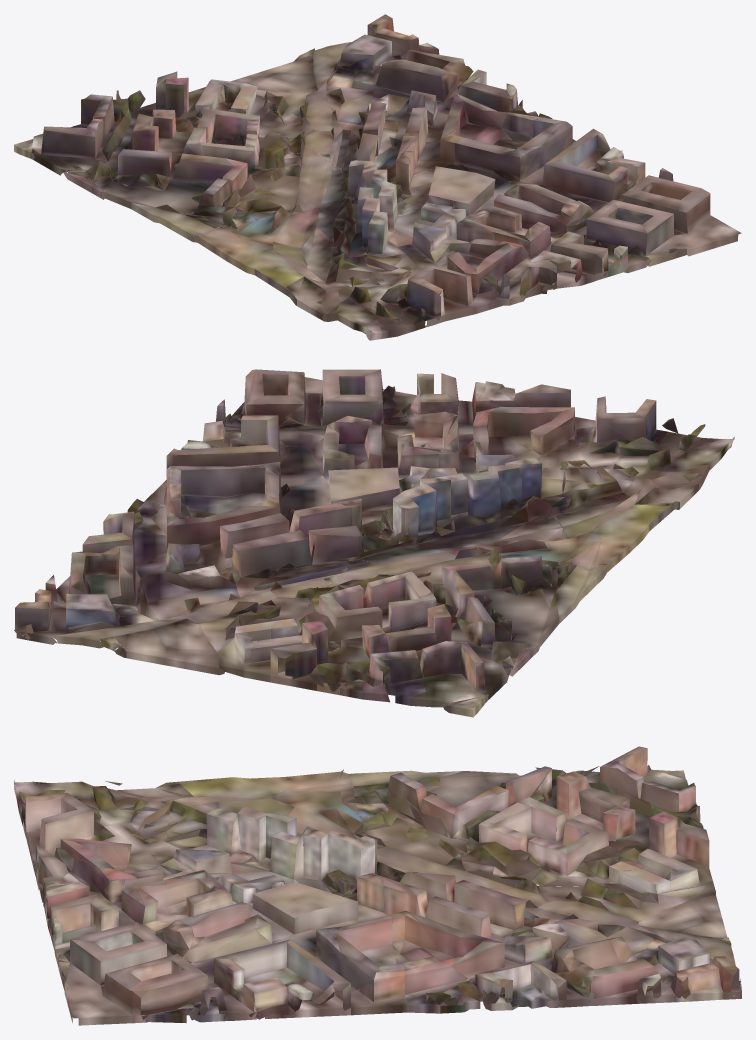
3 views of the same model, one above another, from view 1: azimuth 30°, elevation 25°; view 2: azimuth 150°, elevation 25°; view 3: azimuth 270°, elevation 25° (orthographic). The views are drawn at different scales.
Visible parts, largest first — view 1: Mesh_0; view 2: Mesh_0; view 3: Mesh_0.
Part boxes in pixels (bbox=[...]): Mesh_0: bbox=[14, 14, 741, 340]; Mesh_0: bbox=[14, 369, 734, 717]; Mesh_0: bbox=[14, 746, 741, 1025].
Bounding box in the file's own units: 533 × 59.89 × 660.
2 materials, 2 textured.
